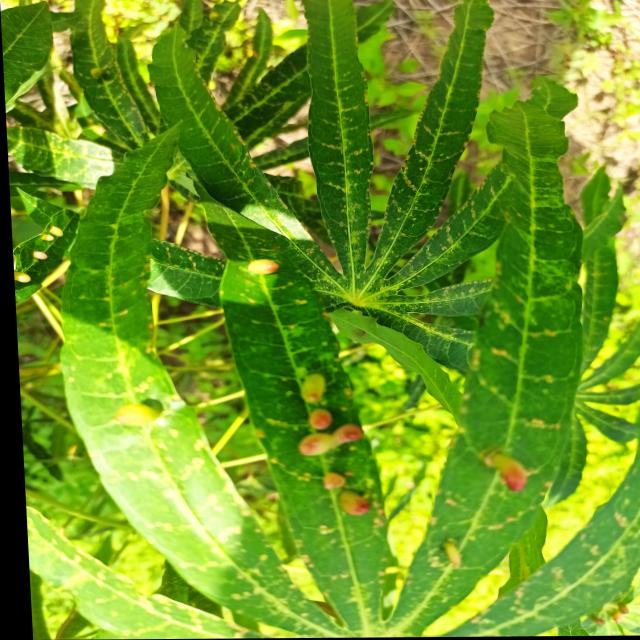Mosca: (286, 365, 379, 521), (477, 444, 553, 500), (108, 388, 174, 435), (416, 536, 468, 574), (236, 249, 289, 284)
